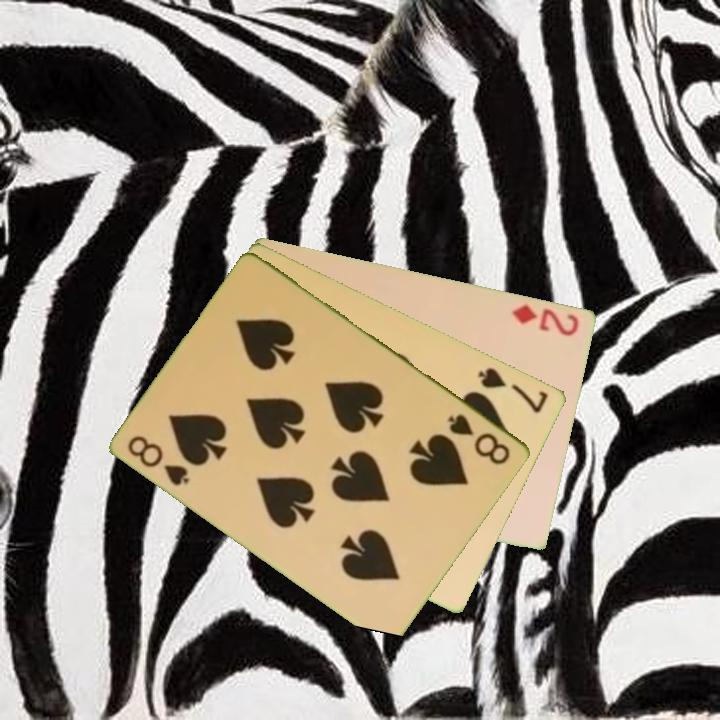2d: (509, 300, 583, 339)
7s: (474, 363, 552, 416)
8s: (444, 410, 514, 468), (124, 431, 193, 489)
